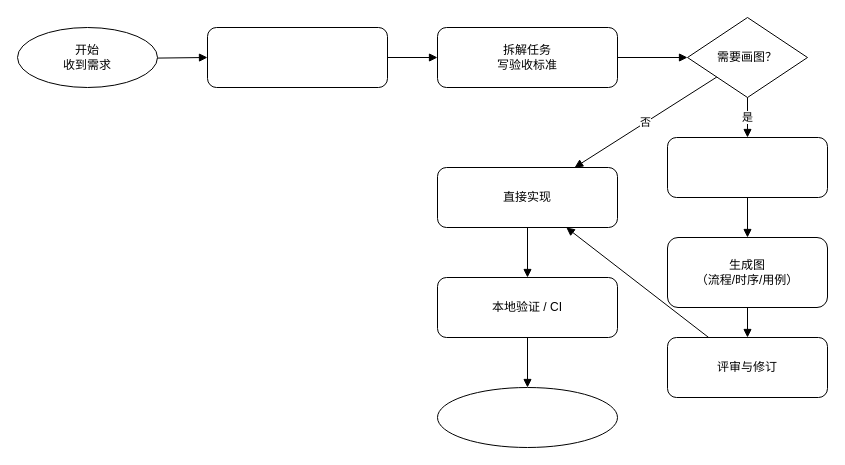
The diagram is 845 pixels wide and 465 high, and some of its shapes have lost their labels. Each missing label, with the box of its shape:
先写文字规格: (666, 136, 828, 198)
提交 / PR / 合并: (436, 386, 618, 448)
澄清目标与边界: (206, 26, 388, 88)
